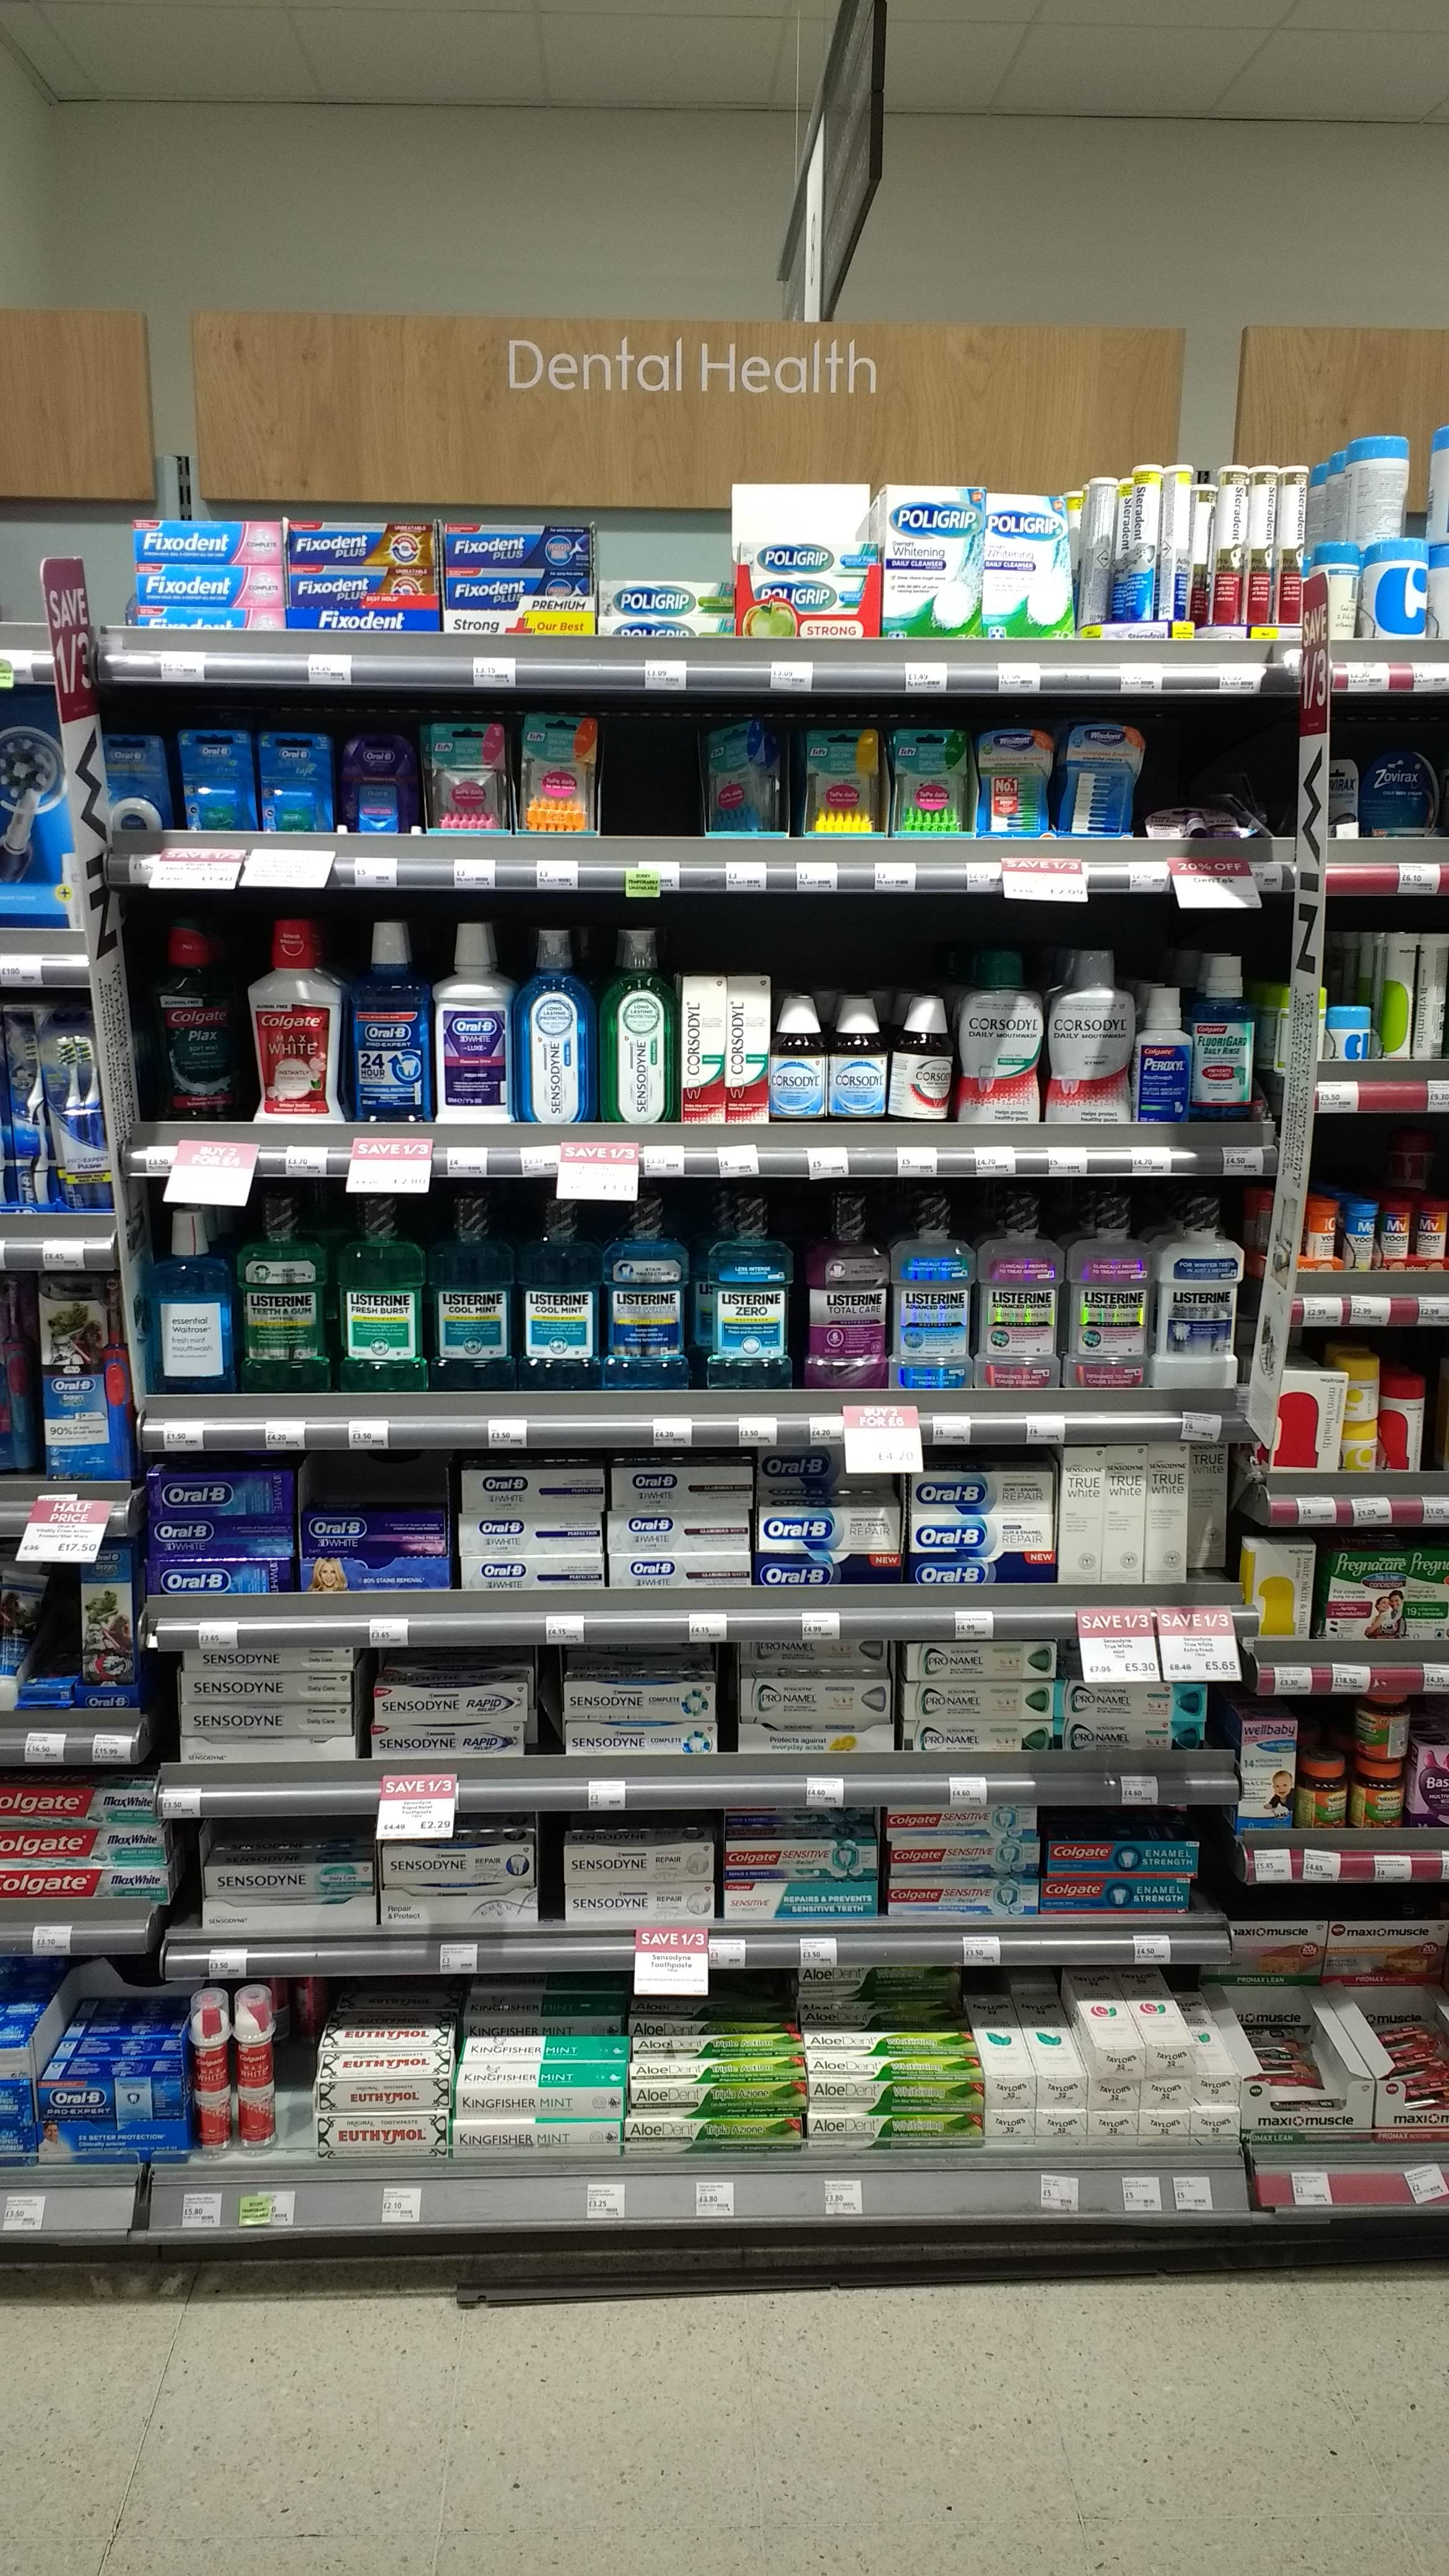misalignment: (701, 717, 793, 837), (1141, 782, 1279, 846), (23, 1631, 74, 1700), (1323, 757, 1366, 840)
